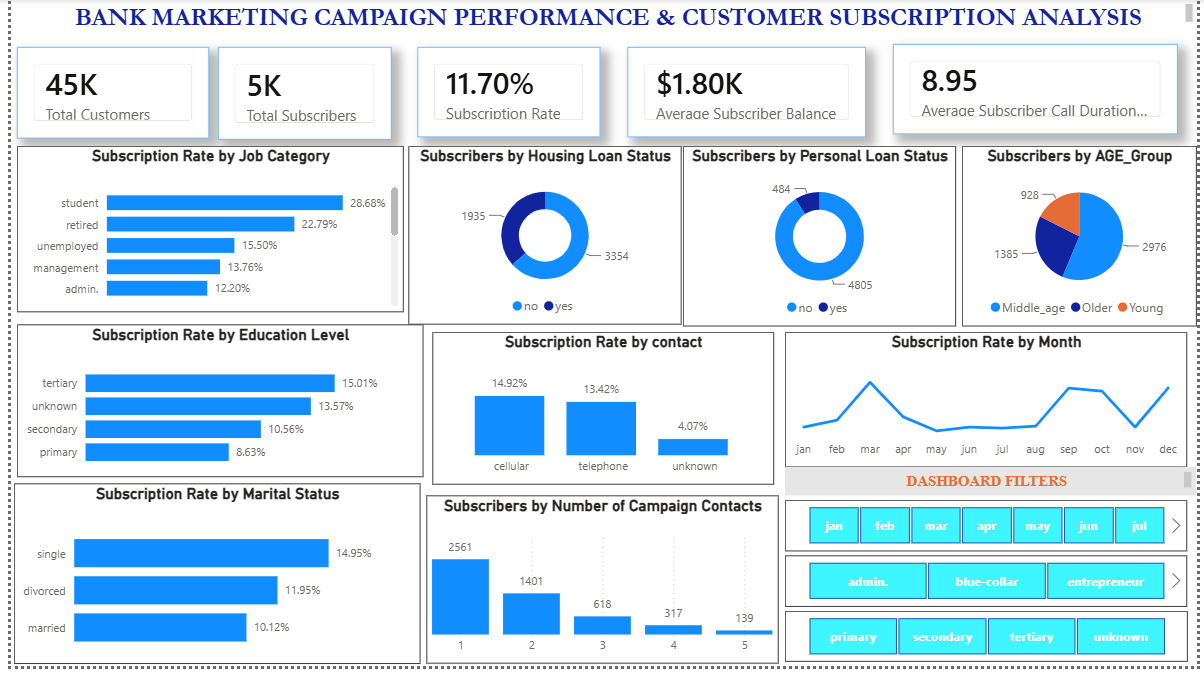

This screenshot's page, from the dashboard's own definition file:
{"tool":"powerbi","page":{"name":"Dashboard","canvas":[1280,720],"ordinal":0},"visuals":[{"type":"cardVisual","fields":{"Data":["public bank_marketing.Total Customers"]},"box":[6.5,51.8,207.3,98.8],"z":0},{"type":"cardVisual","fields":{"Data":["public bank_marketing.Total Subscribers"]},"box":[222.7,51,187.1,100.2],"z":1000},{"type":"cardVisual","fields":{"Data":["public bank_marketing.Subscription Rate"]},"box":[439,51,197.5,97.2],"z":2000},{"type":"cardVisual","fields":{"Data":["public bank_marketing.Average Subscriber Balance"]},"box":[665.8,51,257.5,97],"z":3000},{"type":"cardVisual","fields":{"Data":["public bank_marketing.Average Subscriber Call Duration"]},"box":[952.4,49.1,307.7,97],"z":4000},{"type":"textbox","box":[17.8,0,1263,34],"z":5000},{"type":"clusteredBarChart","title":"Subscription Rate by Job Category ","fields":{"Y":["public bank_marketing.Subscription Rate"],"Category":["public bank_marketing.job"]},"box":[5.7,158.7,417.6,179.5],"z":6000},{"type":"clusteredBarChart","title":"Subscription Rate by Education Level","fields":{"Y":["public bank_marketing.Subscription Rate"],"Category":["public bank_marketing.education"]},"box":[5.7,351.5,438.4,164.4],"z":7000},{"type":"barChart","title":" Subscription Rate by Marital Status","fields":{"Y":["public bank_marketing.Subscription Rate"],"Category":["public bank_marketing.marital"]},"box":[3.8,523.5,438.4,194.6],"z":8000},{"type":"donutChart","title":"Subscribers by Housing Loan Status","fields":{"Category":["public bank_marketing.housing"],"Y":["public bank_marketing.Total Subscribers"]},"box":[429,158.7,294.8,192.8],"z":9000},{"type":"donutChart","title":"Subscribers by Personal Loan Status","fields":{"Y":["public bank_marketing.Total Subscribers"],"Category":["public bank_marketing.loan"]},"box":[725.7,158.7,294.8,194.6],"z":10000},{"type":"columnChart","fields":{"Category":["public bank_marketing.contact"],"Y":["public bank_marketing.Subscription Rate"]},"box":[455.4,359.1,368.5,164.4],"z":11000},{"type":"lineChart","fields":{"Y":["public bank_marketing.Subscription Rate"],"Category":["Months.Month"]},"box":[835.5,359.5,434,145.7],"z":12000},{"type":"pieChart","title":"Subscribers by AGE_Group","fields":{"Y":["public bank_marketing.Total Subscribers"],"Category":["public bank_marketing.Age_Group"]},"box":[1026.1,158.7,253.2,194.6],"z":13000},{"type":"columnChart","title":"Subscribers by Number of Campaign Contacts","fields":{"Category":["public bank_marketing.campaign"],"Y":["public bank_marketing.Total Subscribers"]},"box":[447.9,536.7,379.8,181.4],"z":14000},{"type":"slicer","fields":{"Values":["Months.Month"]},"box":[835.5,540.8,434,55.1],"z":15000},{"type":"slicer","fields":{"Values":["public bank_marketing.education"]},"box":[835.3,661.4,434.6,54.8],"z":16000},{"type":"slicer","fields":{"Values":["public bank_marketing.job"]},"box":[835.5,600.7,434,55.1],"z":17000},{"type":"textbox","box":[835.5,505.2,443.7,30.8],"z":18000}]}

Visuals, with their boxes in screenshot pixels (x1, y1, x2, y2), scaled from the page's 1280x720 canvas onto the 1204x675 screenshot:
cardVisual - public bank_marketing.Total Customers: [left=6, top=49, right=201, bottom=141]
cardVisual - public bank_marketing.Total Subscribers: [left=209, top=48, right=385, bottom=142]
cardVisual - public bank_marketing.Subscription Rate: [left=413, top=48, right=599, bottom=139]
cardVisual - public bank_marketing.Average Subscriber Balance: [left=626, top=48, right=868, bottom=139]
cardVisual - public bank_marketing.Average Subscriber Call Duration: [left=896, top=46, right=1185, bottom=137]
textbox: [left=17, top=0, right=1203, bottom=32]
"Subscription Rate by Job Category " clusteredBarChart: [left=5, top=149, right=398, bottom=317]
"Subscription Rate by Education Level" clusteredBarChart: [left=5, top=330, right=418, bottom=484]
" Subscription Rate by Marital Status" barChart: [left=4, top=491, right=416, bottom=673]
"Subscribers by Housing Loan Status" donutChart: [left=404, top=149, right=681, bottom=330]
"Subscribers by Personal Loan Status" donutChart: [left=683, top=149, right=960, bottom=331]
columnChart - public bank_marketing.contact x public bank_marketing.Subscription Rate: [left=428, top=337, right=775, bottom=491]
lineChart - public bank_marketing.Subscription Rate x Months.Month: [left=786, top=337, right=1194, bottom=474]
"Subscribers by AGE_Group" pieChart: [left=965, top=149, right=1203, bottom=331]
"Subscribers by Number of Campaign Contacts" columnChart: [left=421, top=503, right=779, bottom=673]
slicer - Months.Month: [left=786, top=507, right=1194, bottom=559]
slicer - public bank_marketing.education: [left=786, top=620, right=1194, bottom=671]
slicer - public bank_marketing.job: [left=786, top=563, right=1194, bottom=615]
textbox: [left=786, top=474, right=1203, bottom=502]
